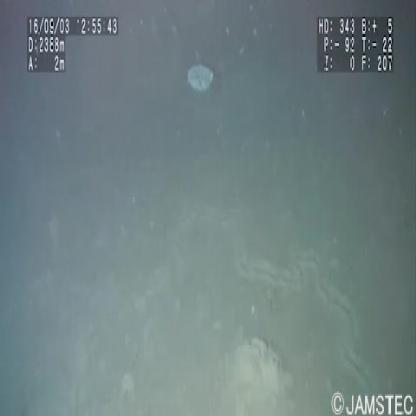Rác: (184, 59, 221, 97)
